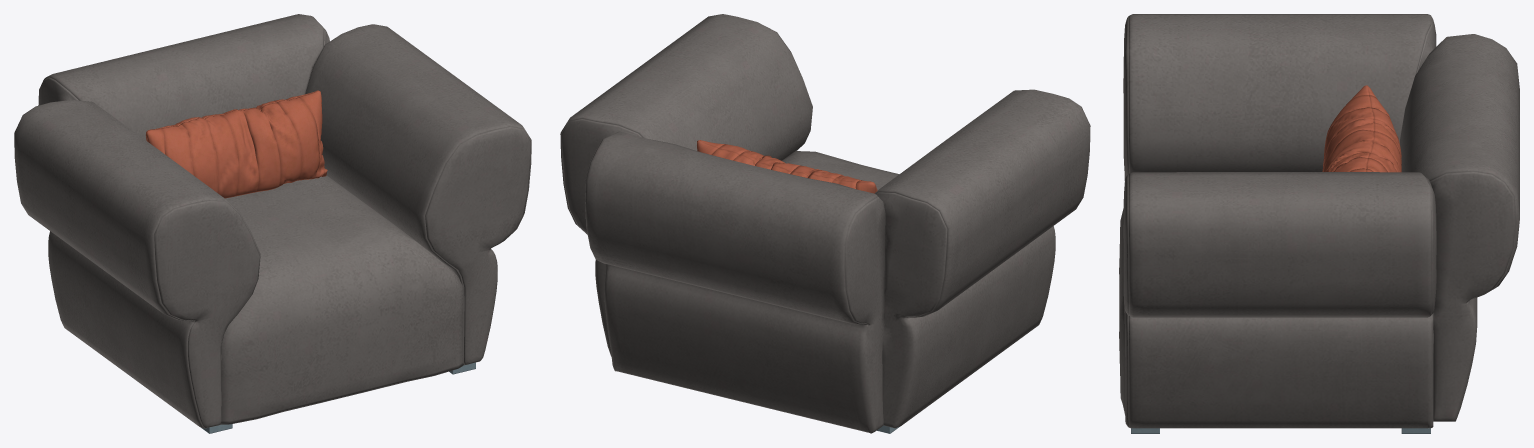
The model's file is mueble4v3.obj.
3 renders of one model, left to right at view 1: azimuth 30°, elevation 25°; view 2: azimuth 150°, elevation 25°; view 3: azimuth 270°, elevation 25°, orthographic. The views are drawn at different scales.
Visible parts, largest first — view 1: OBJ; view 2: OBJ; view 3: OBJ.
Boxes of the visible parts, left/top/right/bottom form: OBJ: left=14, top=14, right=531, bottom=433; OBJ: left=560, top=14, right=1090, bottom=433; OBJ: left=1119, top=14, right=1519, bottom=433.
Size of the model in its own units: 1237 by 742 by 1031.
3 materials, 3 textured.
